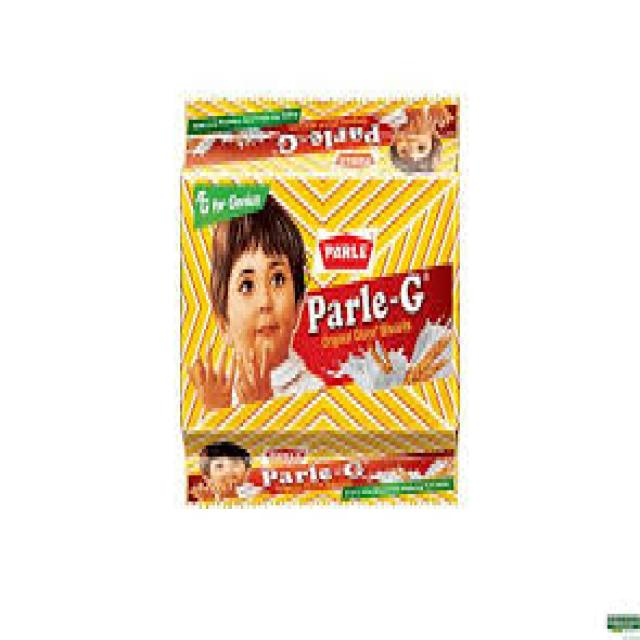parle-g: (178, 99, 462, 508)
